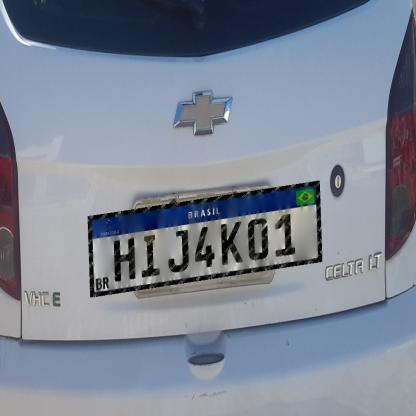PlacaM: (88, 181, 322, 297)
